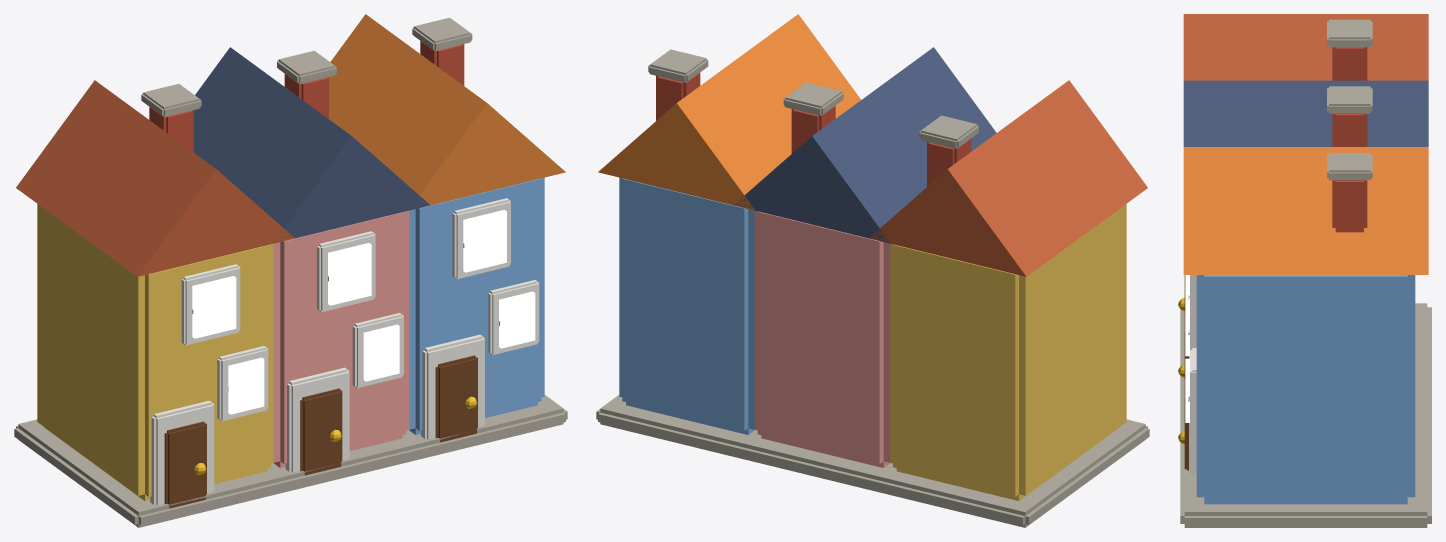
File: terrace.glb
3 renders of one model, left to right at view 1: azimuth 30°, elevation 25°; view 2: azimuth 150°, elevation 25°; view 3: azimuth 270°, elevation 25°, orthographic.
Parts seen in each view (by area): view 1: terrace; view 2: terrace; view 3: terrace.
Part boxes in pixels (<box>): terrace: <box>14,14,567,527</box>; terrace: <box>596,14,1149,527</box>; terrace: <box>1178,14,1431,527</box>.
Bounding box in the file's own units: 2.3 × 1.75 × 1.16.
